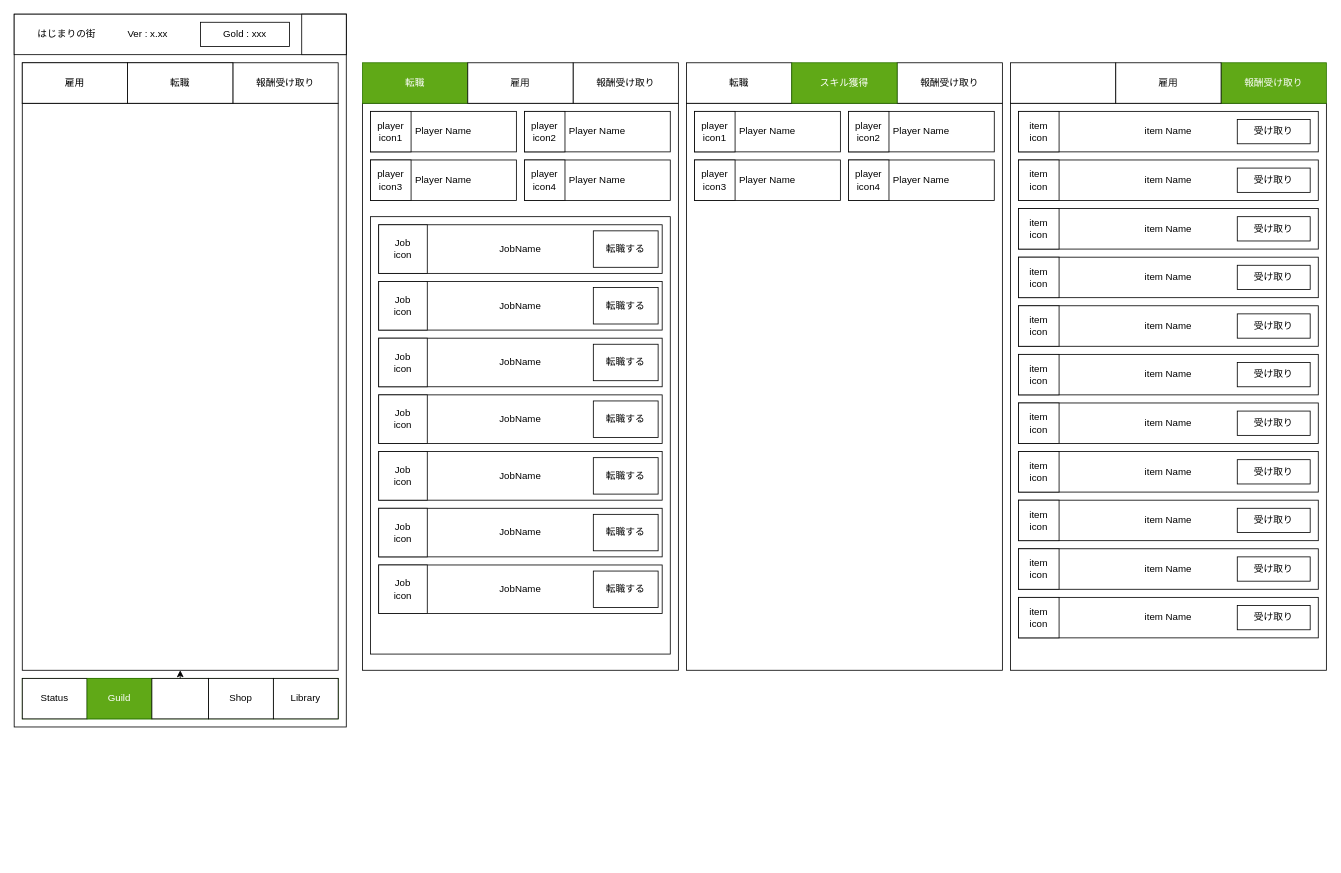
This 1341x873 diagram has some shape labels left out. The shapes that lost their labels are listed below. From the top down, each one's box as (x1, y1, x2, y2) in pixels, then its label:
(301, 13, 346, 55): Setting
(151, 678, 209, 719): Dungeon
